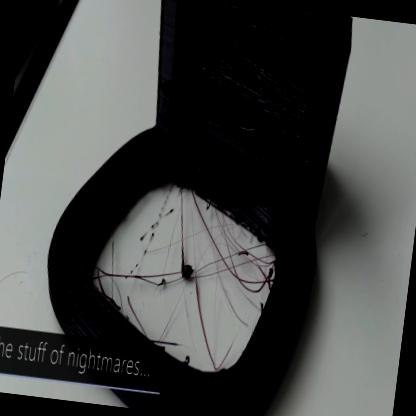fail: (169, 1, 319, 162), (158, 219, 274, 317)
